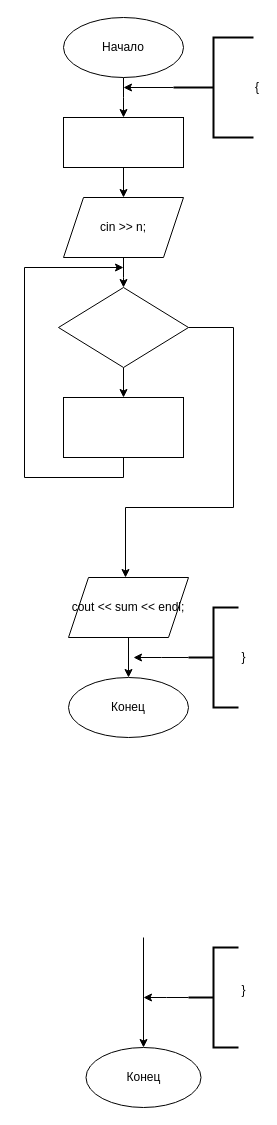
The diagram is 277 pixels wide and 1125 high, and some of its shapes have lost their labels. Each missing label, with the centre of its shape:
"int n; int sum =0;" belongs at point (123, 142).
"sum+=n%10; n/=10;" belongs at point (123, 427).
"while (n>0)" belongs at point (123, 327).
